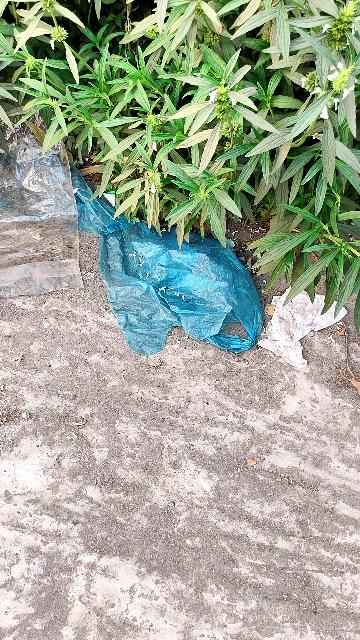polythene: (74, 191, 264, 368)
